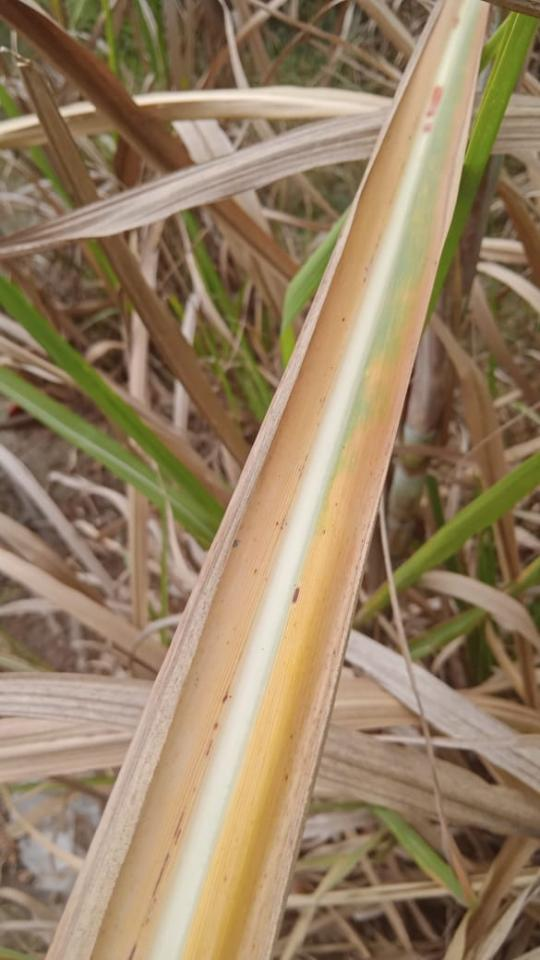RedRot: (425, 85, 444, 119), (422, 123, 431, 134)
Rust: (150, 851, 171, 900), (173, 811, 185, 836), (291, 586, 301, 604), (173, 829, 183, 847), (205, 738, 214, 757), (128, 943, 138, 959), (222, 692, 229, 704), (232, 538, 241, 547), (212, 723, 219, 730), (252, 568, 258, 575), (362, 276, 368, 283), (284, 774, 289, 782), (364, 266, 369, 272), (341, 317, 346, 322), (275, 520, 279, 526), (289, 734, 293, 739), (323, 529, 326, 534), (285, 522, 288, 526), (280, 525, 282, 530)
Yellow: (44, 0, 455, 959), (182, 2, 489, 959)
